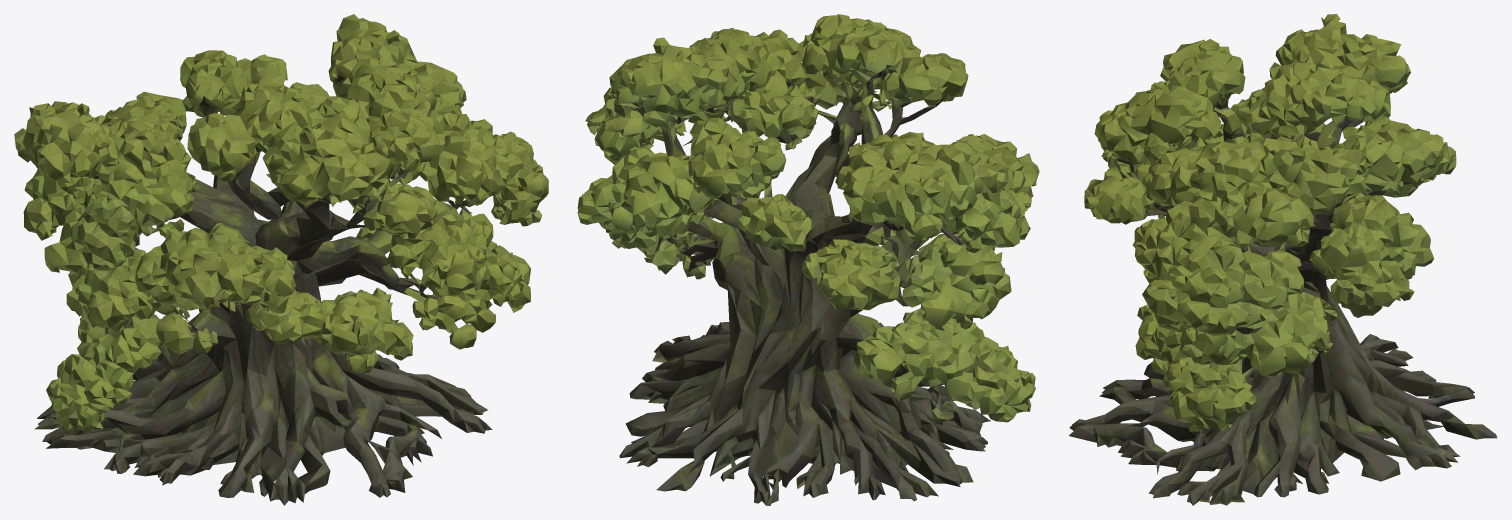
File: oak_big_s.glb
3 renders of one model, left to right at view 1: azimuth 30°, elevation 25°; view 2: azimuth 150°, elevation 25°; view 3: azimuth 270°, elevation 25°, orthographic. The views are drawn at different scales.
Bounding box in the file's own units: 1.88 × 1.41 × 1.55.
Materials: 1 (1 with a texture image).
